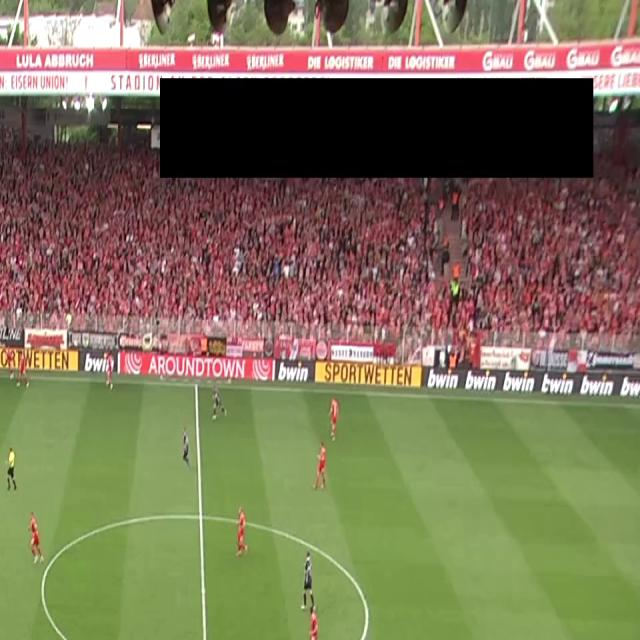referee: (0, 444, 23, 498)
soccer-player: (228, 506, 254, 565), (28, 512, 50, 570), (298, 548, 317, 608), (310, 439, 328, 497), (11, 340, 31, 391), (303, 603, 325, 640), (208, 382, 228, 422), (98, 348, 116, 392), (326, 392, 341, 443), (179, 425, 195, 471)
